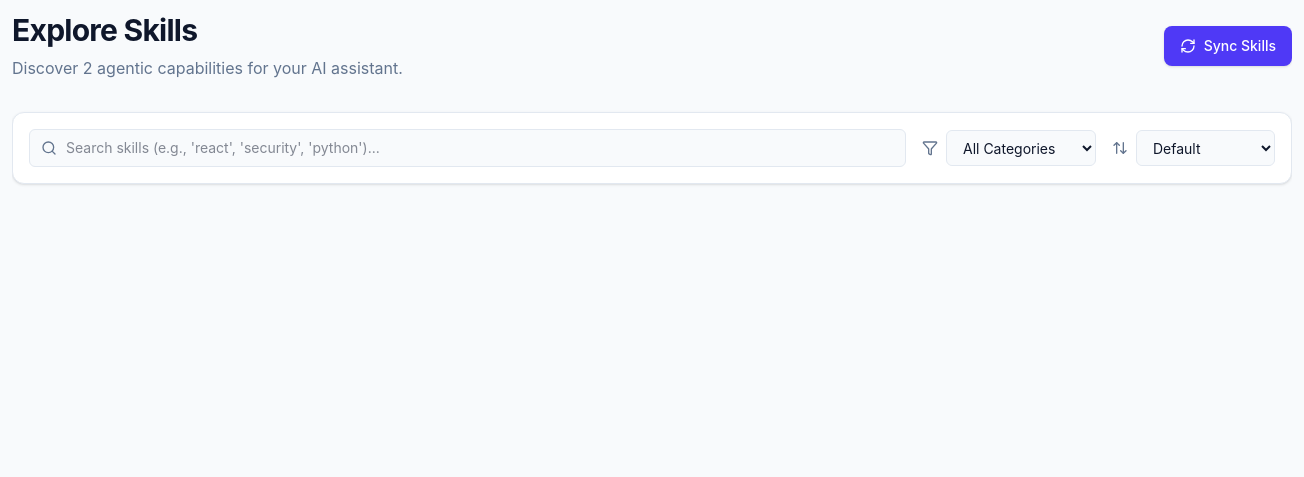
Scenario: Home › Search and Filtering › should filter skills based on search term
In the field labelled "Search skills (e.g., 'react', 'security', 'python')...": (468, 148) top-left (29, 129), bottom-right (906, 167), type "React"
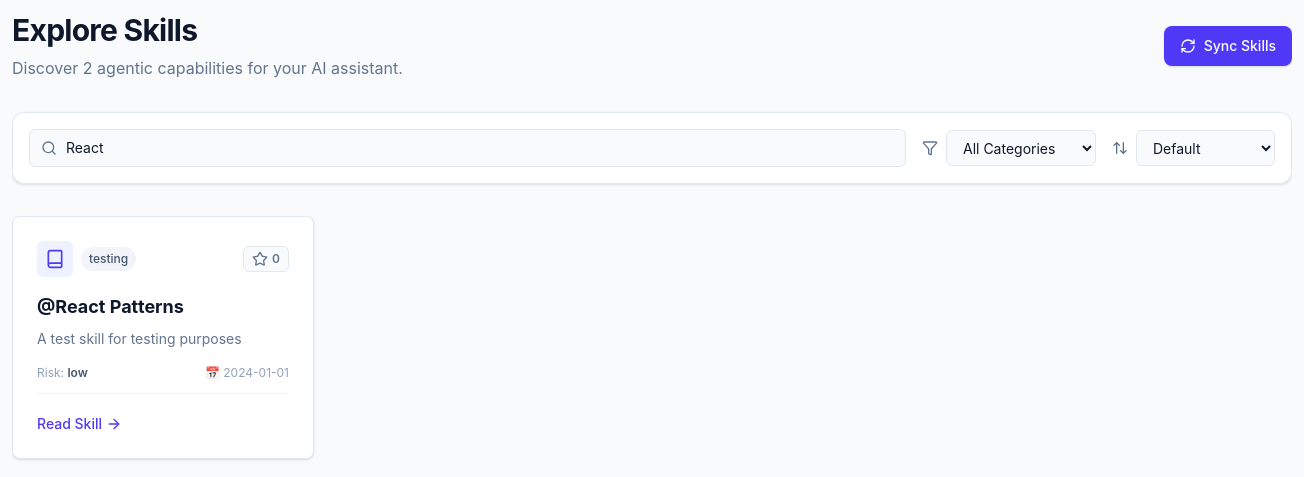
Expected: the heading "@React Patterns" is shown, top-left (37, 296), bottom-right (184, 317)
